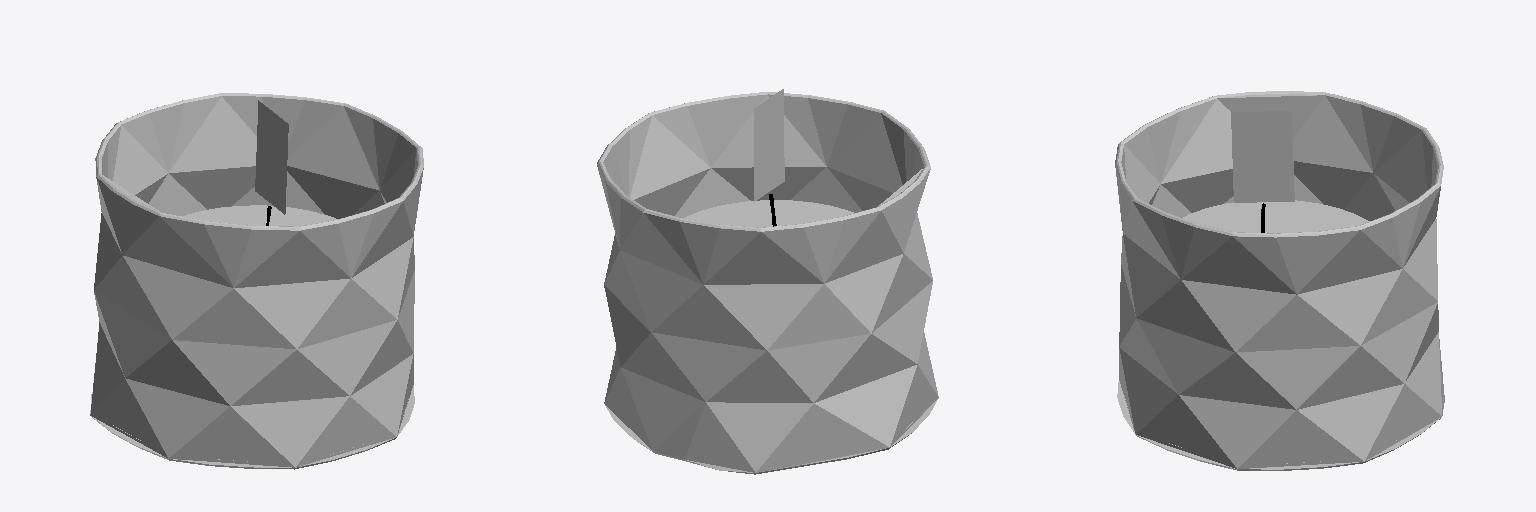
Rendered from glass3.obj.
The picture shows the model from 3 angles: view 1: azimuth 30°, elevation 25°; view 2: azimuth 150°, elevation 25°; view 3: azimuth 270°, elevation 25°; orthographic projection.
Parts seen in each view (by area): view 1: 円柱.006_円柱.002, 円柱.001_円柱.003, 円柱.008; view 2: 円柱.006_円柱.002, 円柱.008, 円柱.001_円柱.003; view 3: 円柱.006_円柱.002, 円柱.001_円柱.003, 円柱.008.
Boxes of the visible parts, x1=… form: 円柱.006_円柱.002: x1=90, y1=93, x2=423, y2=469; 円柱.001_円柱.003: x1=255, y1=100, x2=288, y2=214; 円柱.008: x1=183, y1=205, x2=337, y2=226; 円柱.006_円柱.002: x1=597, y1=92, x2=938, y2=474; 円柱.008: x1=684, y1=194, x2=853, y2=227; 円柱.001_円柱.003: x1=754, y1=89, x2=784, y2=201; 円柱.006_円柱.002: x1=1115, y1=91, x2=1444, y2=470; 円柱.001_円柱.003: x1=1231, y1=111, x2=1294, y2=202; 円柱.008: x1=1183, y1=200, x2=1369, y2=233.
Bounding box in the file's own units: 1.37 × 1.35 × 1.35.